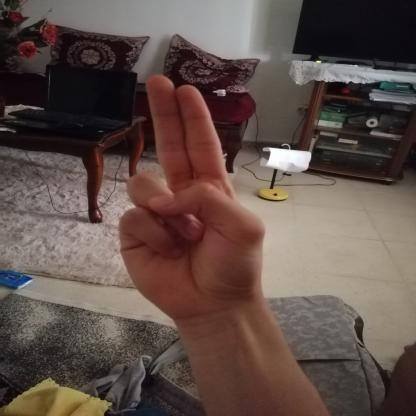TA: (104, 63, 286, 332)
